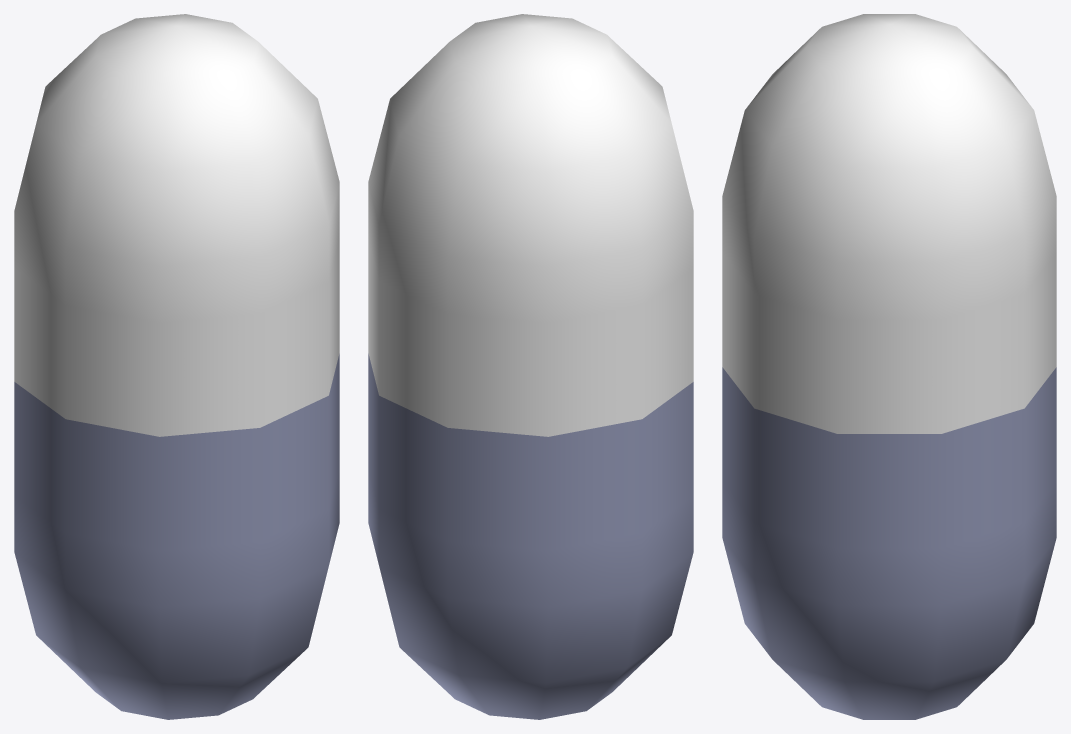
The model's file is Pills_2.fbx.
3 views of the same model, side by side, from view 1: azimuth 30°, elevation 25°; view 2: azimuth 150°, elevation 25°; view 3: azimuth 270°, elevation 25° (orthographic).
Parts seen in each view (by area): view 1: Pills_2; view 2: Pills_2; view 3: Pills_2.
Boxes of the visible parts, x1,y1,x2,y2 form: Pills_2: (14,14,339,719); Pills_2: (368,14,693,719); Pills_2: (722,14,1056,719).
Bounding box in the file's own units: 0.0837 × 0.1991 × 0.088.
